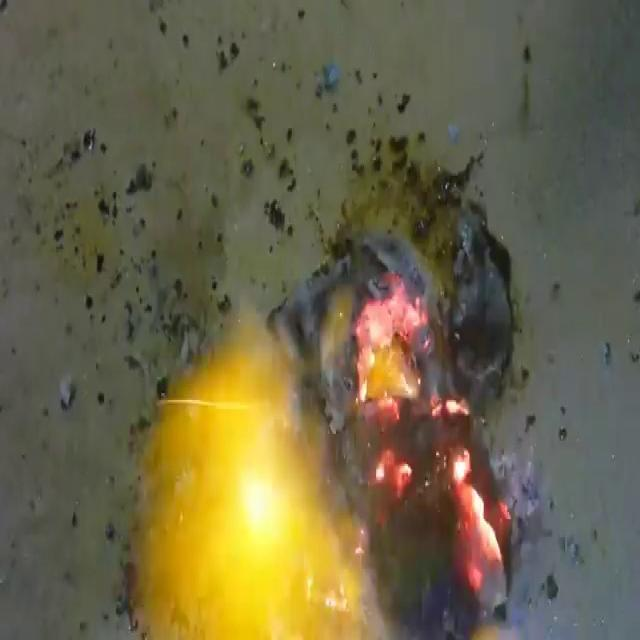Fire: (129, 163, 542, 636)
